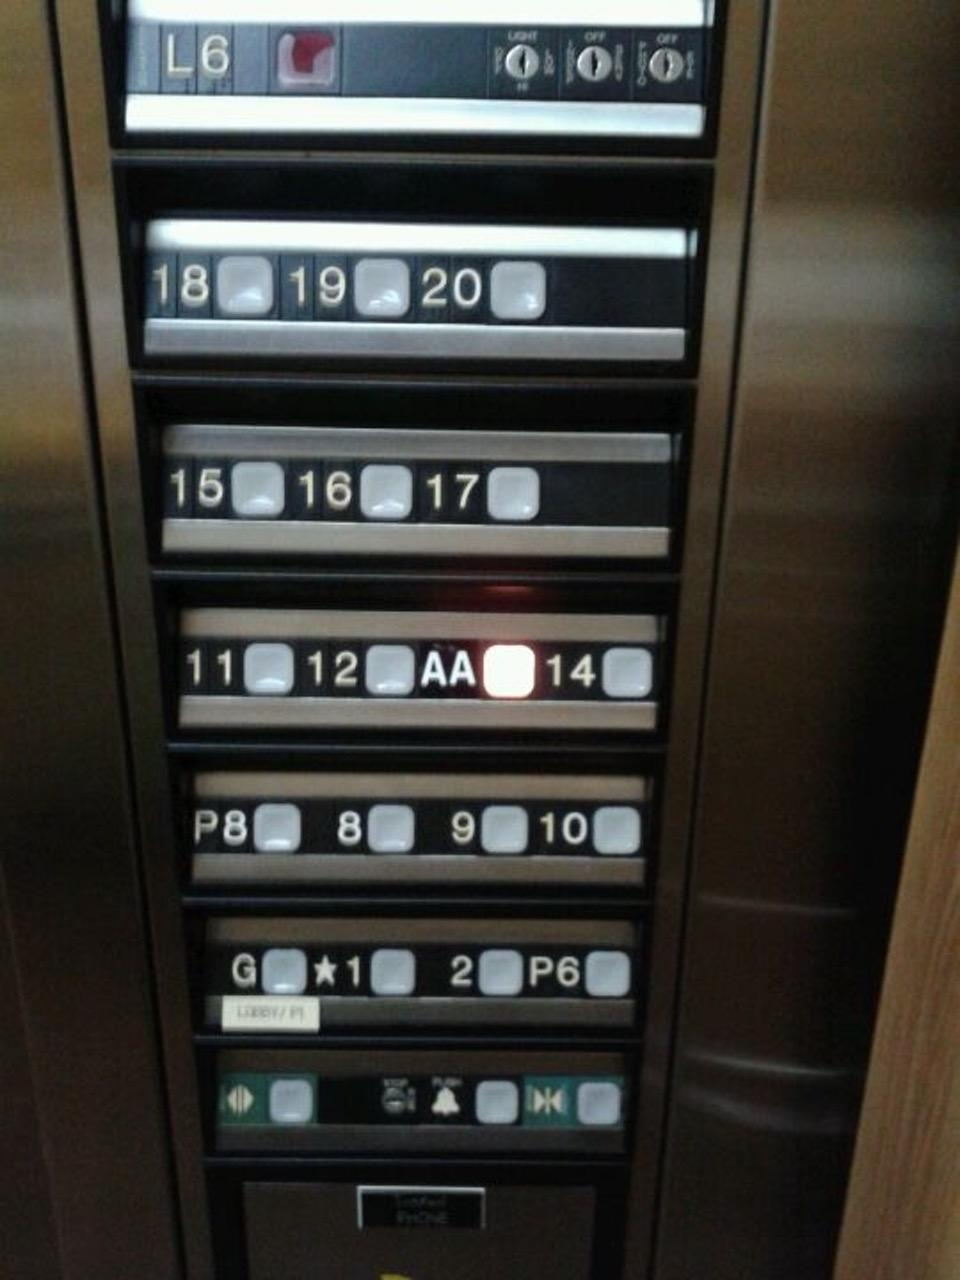10: (536, 793, 644, 860)
11: (178, 631, 301, 703)
12: (301, 632, 418, 703)
14: (543, 636, 656, 705)
15: (161, 451, 290, 522)
16: (295, 451, 419, 525)
17: (419, 452, 547, 530)
18: (146, 244, 278, 327)
19: (278, 245, 417, 329)
2: (437, 936, 526, 1000)
20: (413, 248, 554, 328)
8: (323, 792, 422, 860)
9: (424, 793, 531, 861)
AA: (417, 635, 538, 703)
G: (201, 936, 313, 1000)
L6: (159, 15, 349, 99)
P6: (526, 937, 639, 1004)
P8: (190, 790, 312, 859)
alarm: (419, 1069, 522, 1133)
close: (523, 1070, 629, 1132)
keyhole: (478, 20, 560, 103), (631, 19, 708, 107), (561, 20, 635, 105), (374, 1075, 421, 1123)
open: (208, 1068, 324, 1132)
s1: (312, 936, 436, 1000)
